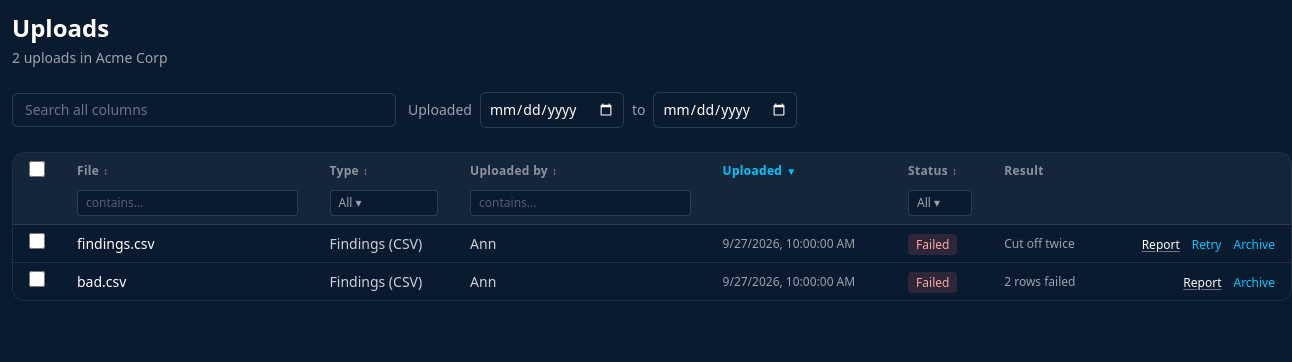
Uploads page › offers Retry only where it can help, and says why it was refused
This screenshot has width=1292, height=362.
Click the button with aria-label "Retry findings.csv": x=1207, y=244 [1192,236,1221,252]
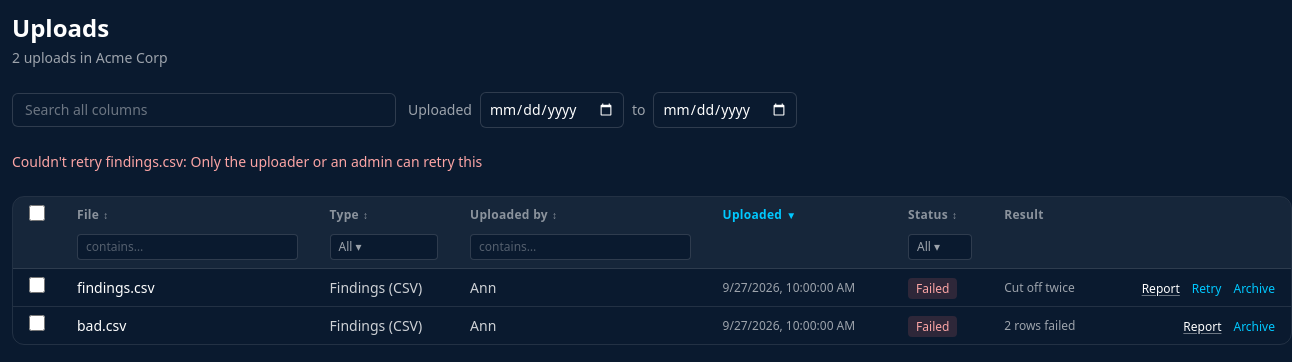
Result: the message shows "Couldn't retry findings.csv: Only the uploader or an admin" at [12,152,482,171]
